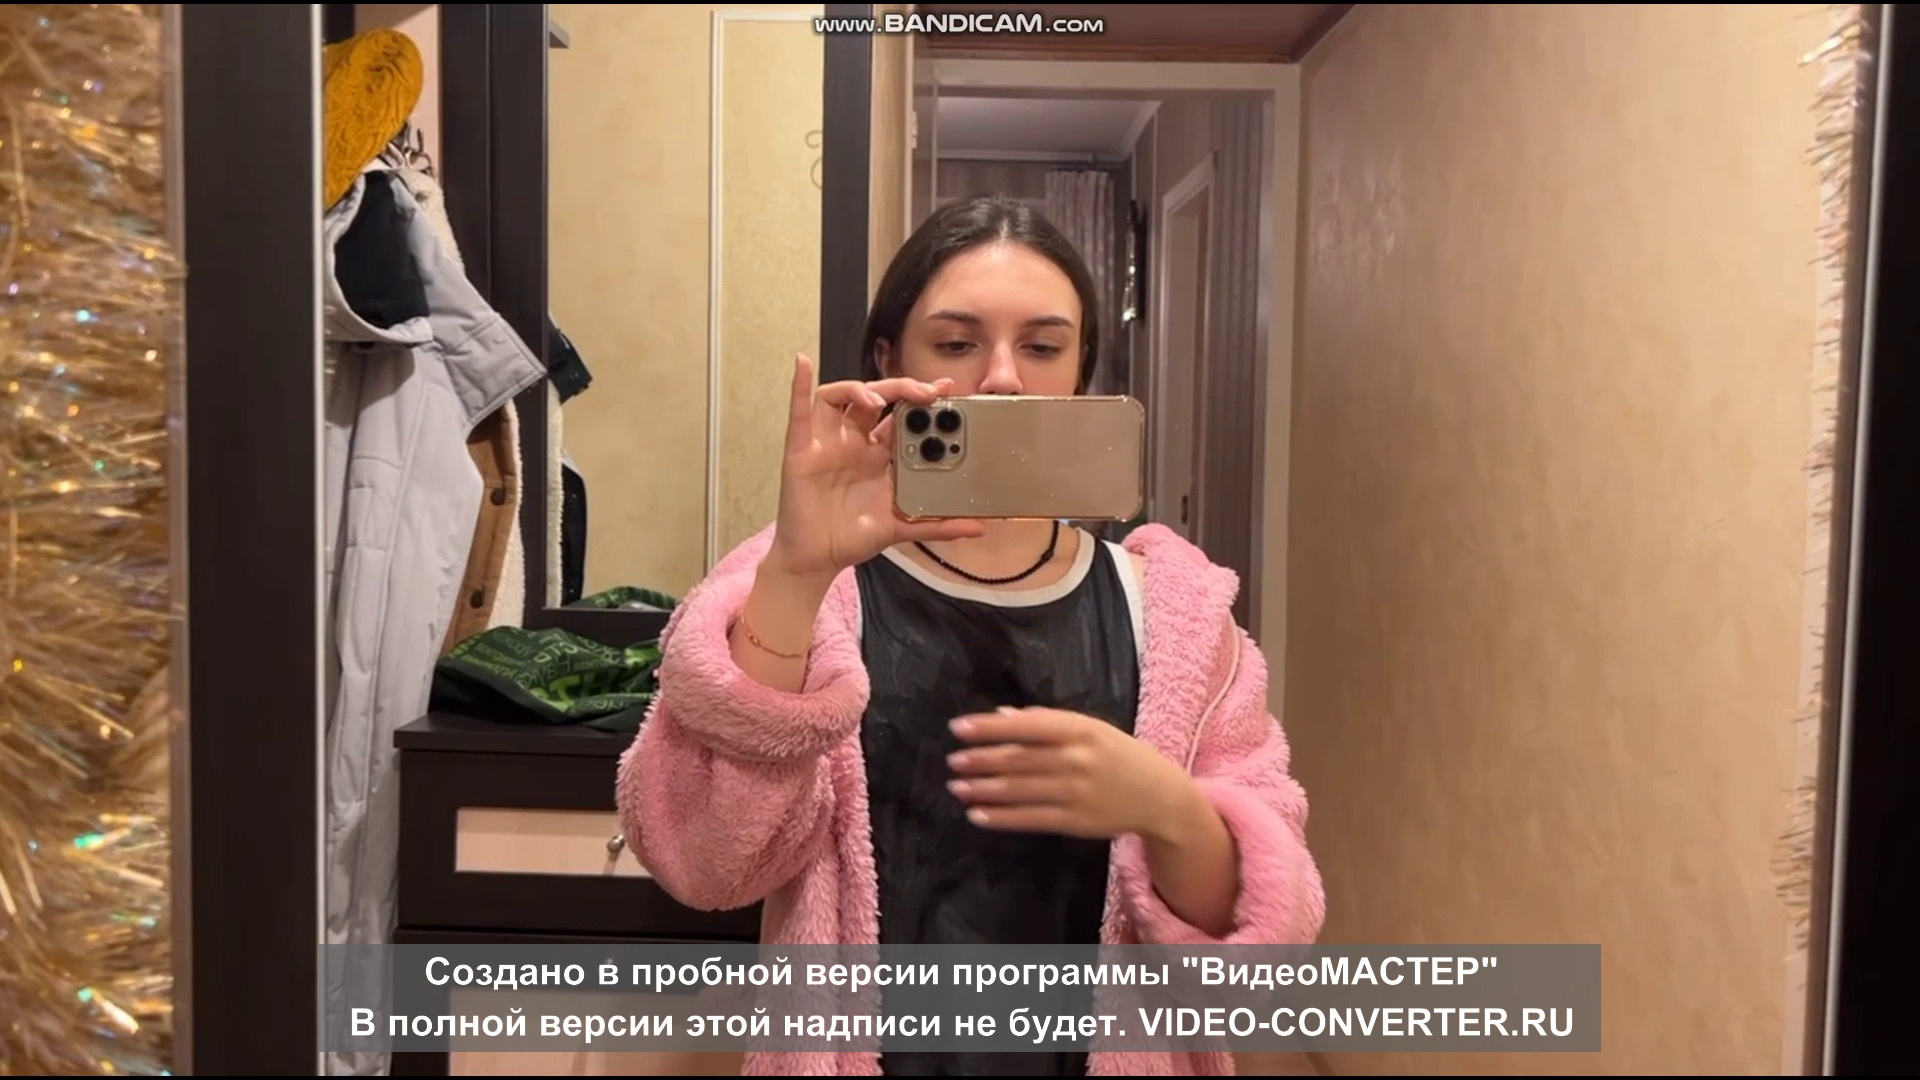Кисть: (943, 698, 1156, 839)
